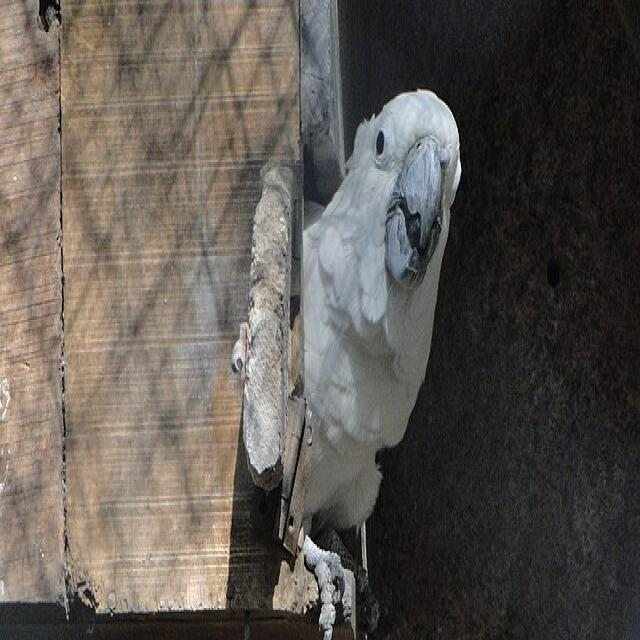Kakatua Putih: (268, 31, 469, 640)
